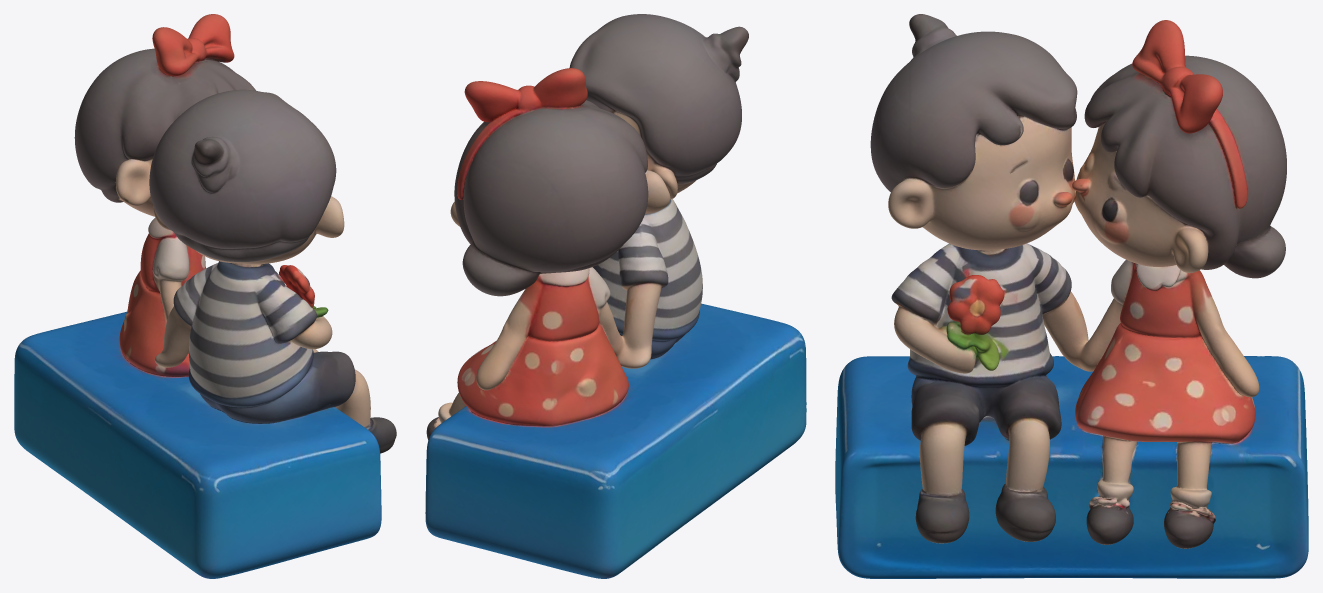
Rendered from couple.glb.
3 renders of one model, left to right at view 1: azimuth 30°, elevation 25°; view 2: azimuth 150°, elevation 25°; view 3: azimuth 270°, elevation 25°, orthographic. The views are drawn at different scales.
Parts seen in each view (by area): view 1: tripo_node_0f6824d3-8078-4526-a4bb-44777ddfde27; view 2: tripo_node_0f6824d3-8078-4526-a4bb-44777ddfde27; view 3: tripo_node_0f6824d3-8078-4526-a4bb-44777ddfde27.
Part boxes in pixels (box(x1,y1,x2,y2)): tripo_node_0f6824d3-8078-4526-a4bb-44777ddfde27: box(14, 14, 396, 578); tripo_node_0f6824d3-8078-4526-a4bb-44777ddfde27: box(425, 14, 806, 578); tripo_node_0f6824d3-8078-4526-a4bb-44777ddfde27: box(835, 14, 1308, 578).
Size of the model in its own units: 0.5588 by 1 by 0.8296.
Materials: 1 (1 with a texture image).
